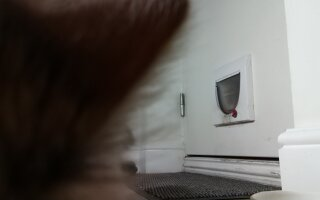clara: (3, 3, 201, 196)
